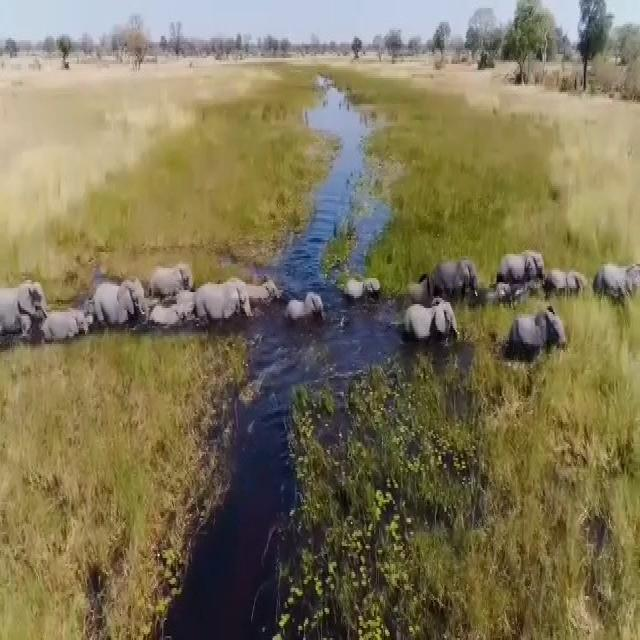Elephant: (507, 313, 564, 366), (427, 253, 478, 312), (204, 266, 248, 334), (492, 246, 543, 302), (96, 280, 141, 343), (154, 276, 196, 343), (0, 286, 50, 340), (593, 252, 639, 310), (42, 299, 90, 352), (402, 300, 451, 349), (147, 259, 194, 303), (341, 272, 381, 311), (235, 268, 276, 306), (288, 290, 324, 330), (550, 262, 586, 297)
